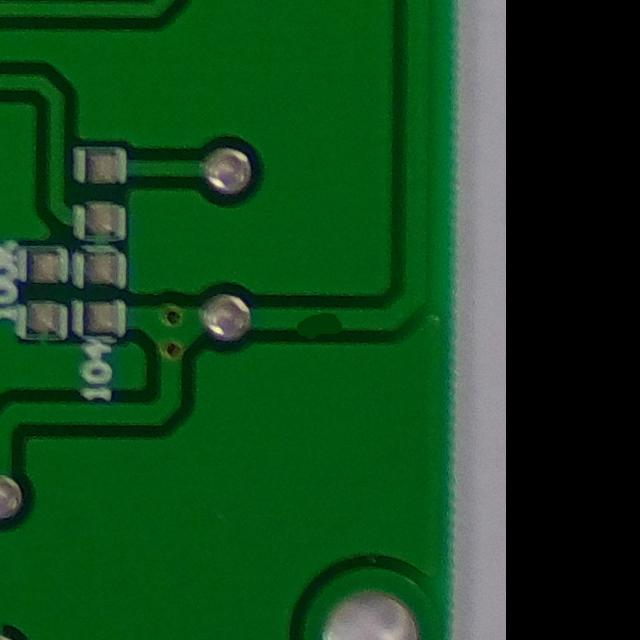mouse_bite: (289, 300, 351, 341)
